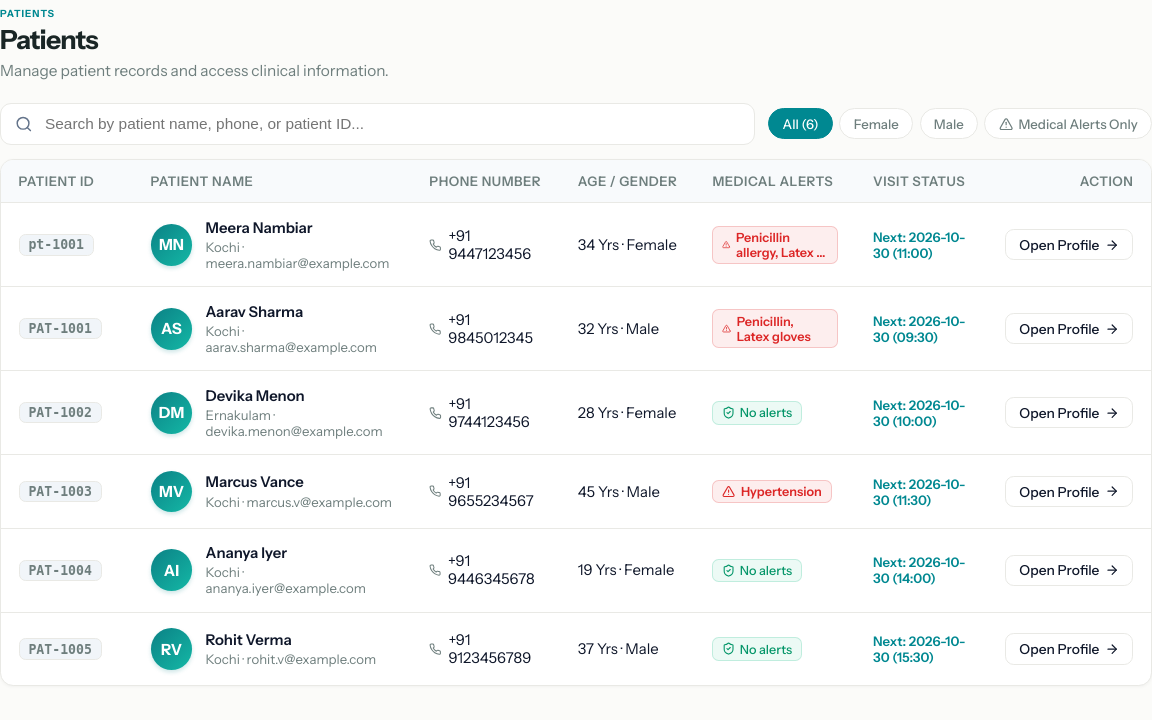
Test: Patients Module Refactoring & Clinical Centralization › clicking a patient in the list opens their Patient Profile
// Click patient name
Click the link "Meera Nambiar": (259, 228) [206,219,313,237]
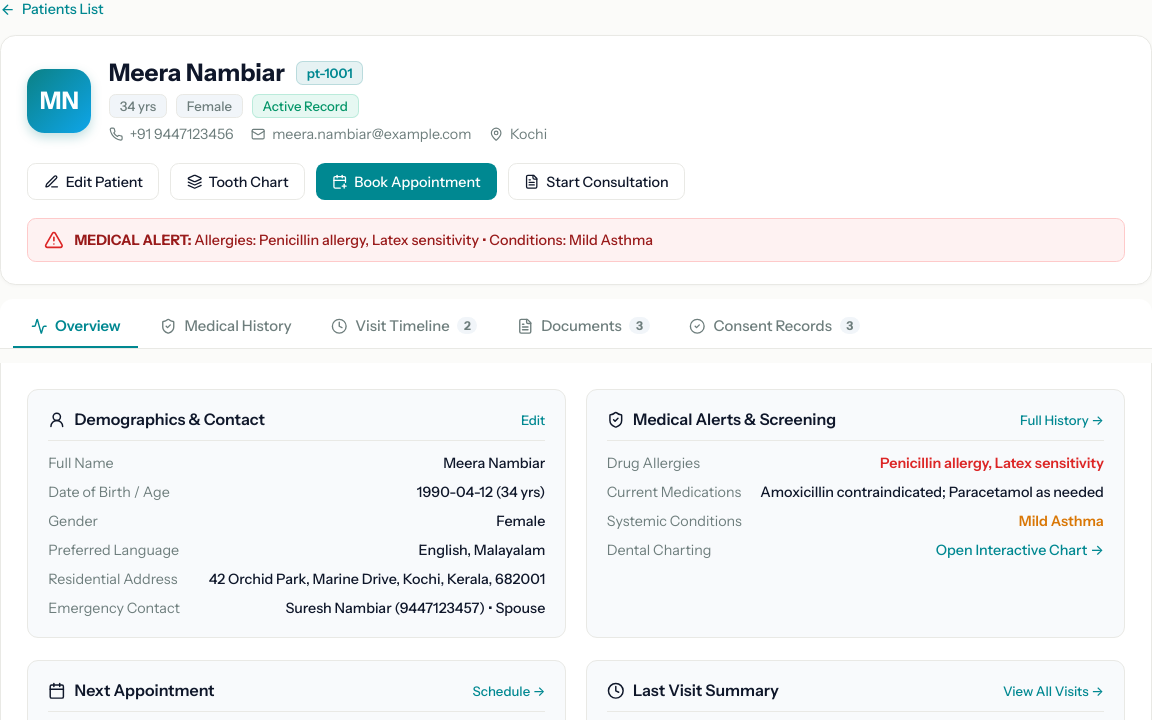
Expected: the text "pt-1001" is shown, [296,60,364,85]
Now the heading "Meera Nambiar pt-1001" is shown, box [109,58,364,87]
